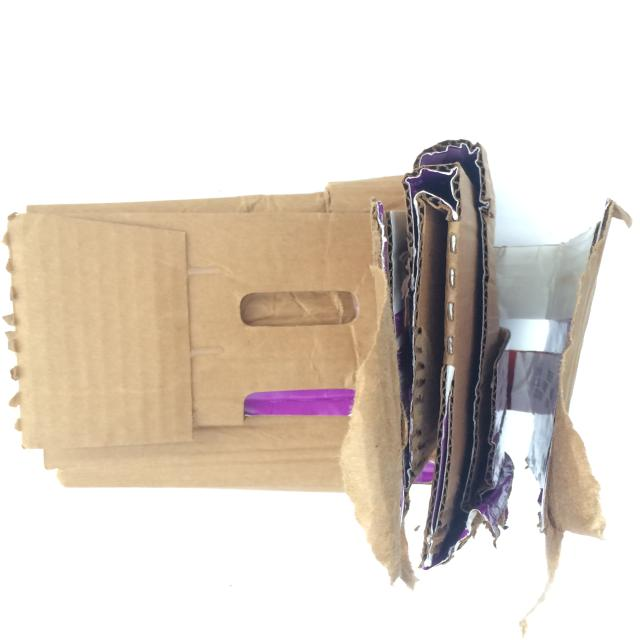cardboard: (0, 130, 638, 598)
